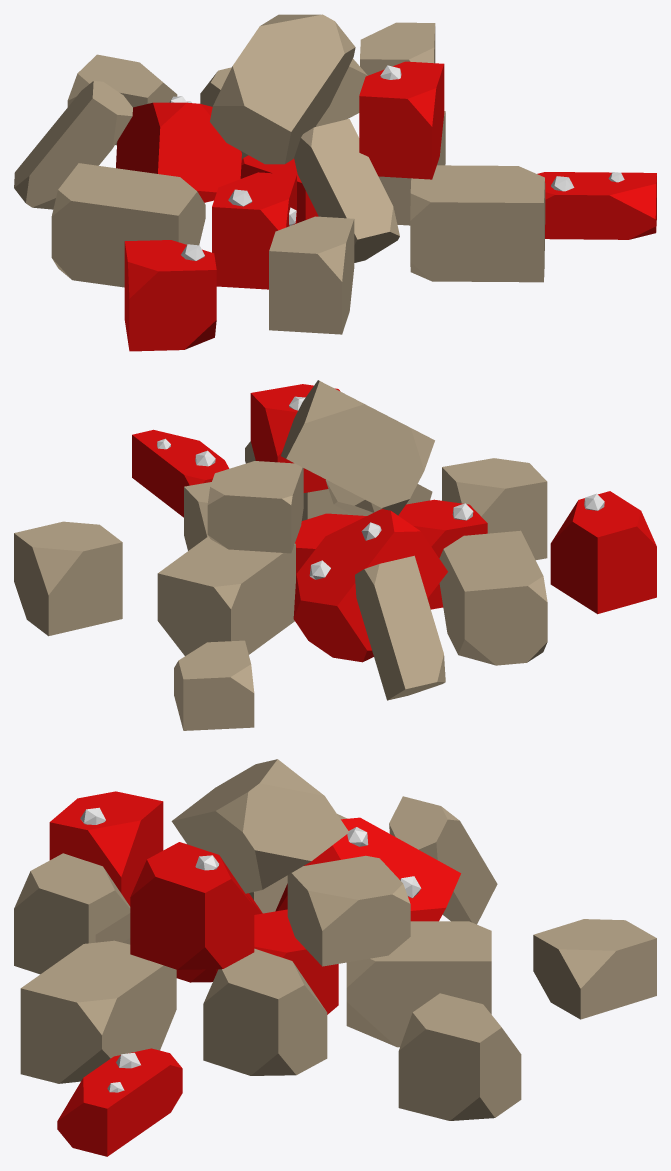
The model's file is SlicedFlyAgaric.fbx.
3 renders of one model, top to bottom at view 1: azimuth 30°, elevation 25°; view 2: azimuth 150°, elevation 25°; view 3: azimuth 270°, elevation 25°, orthographic. The views are drawn at different scales.
Parts seen in each view (by area): view 1: Cube; view 2: Cube; view 3: Cube.
Part boxes in pixels (x1,y1,x2,y2): Cube: [14, 14, 656, 351]; Cube: [14, 380, 656, 730]; Cube: [14, 759, 656, 1156].
Bounding box in the file's own units: 26.58 × 10.34 × 25.53.
